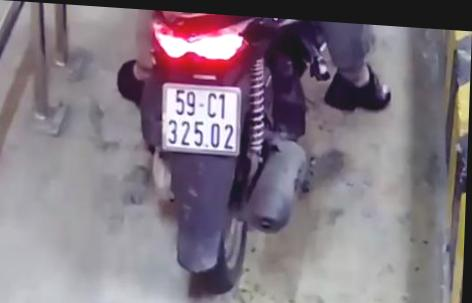License_Plate: (147, 77, 248, 166)
